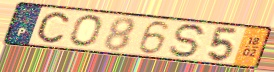5: (205, 26, 239, 63)
6: (136, 20, 172, 56)
8: (103, 16, 139, 53)
C: (35, 11, 71, 44)
O: (68, 13, 104, 48)
S: (167, 22, 210, 59)
